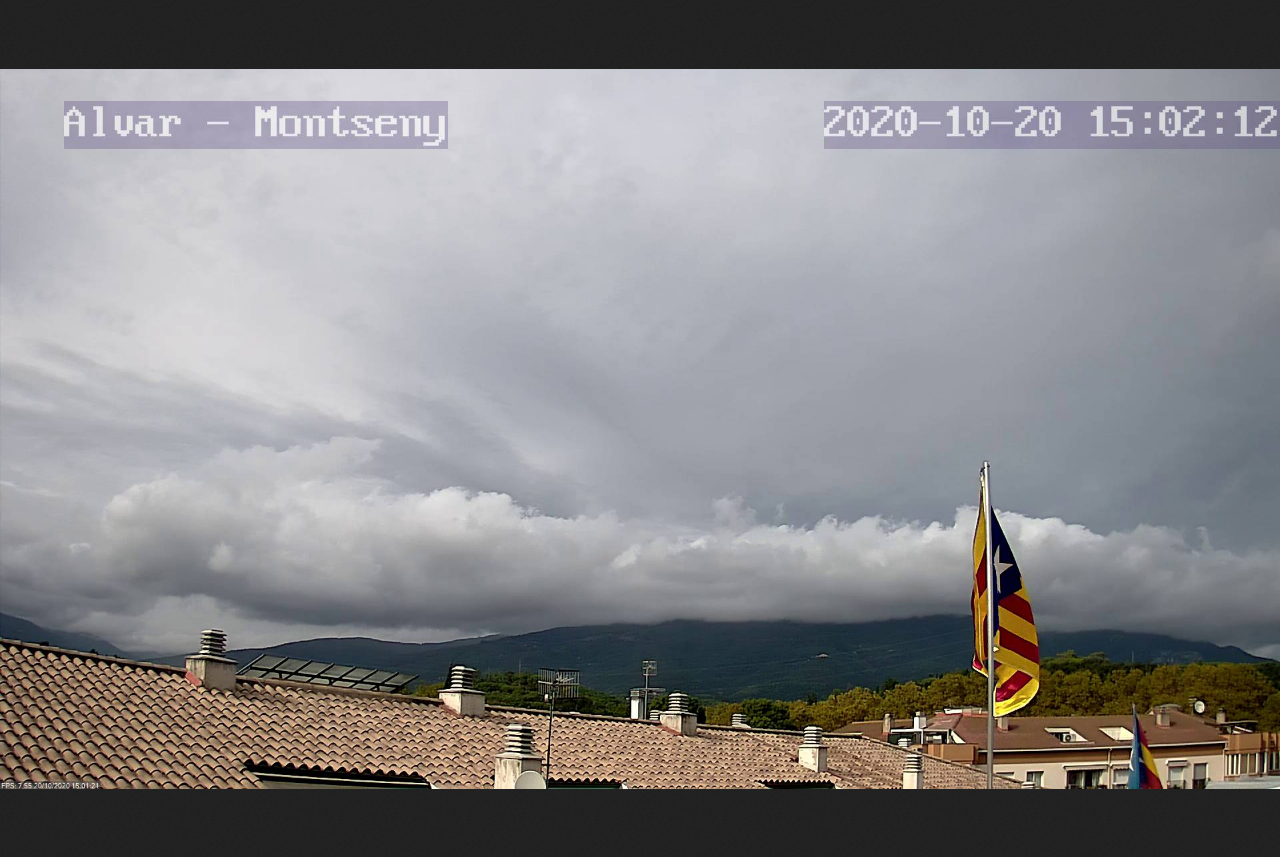no: (966, 496, 1045, 720)
